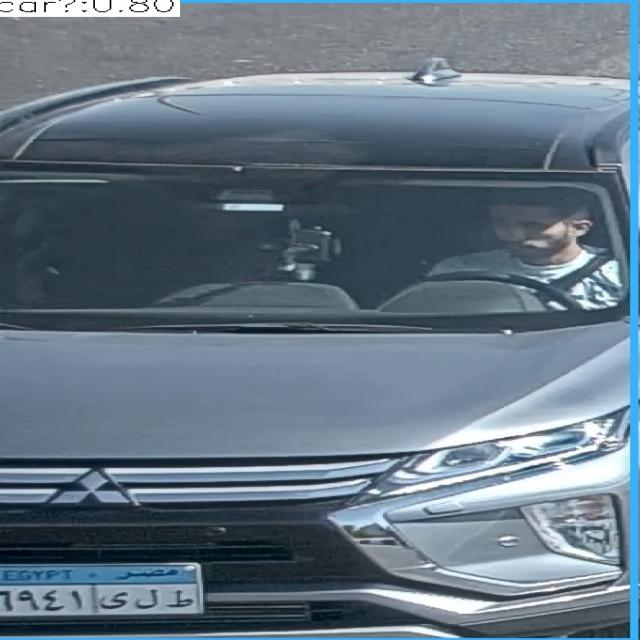windshield: (0, 158, 629, 314)
